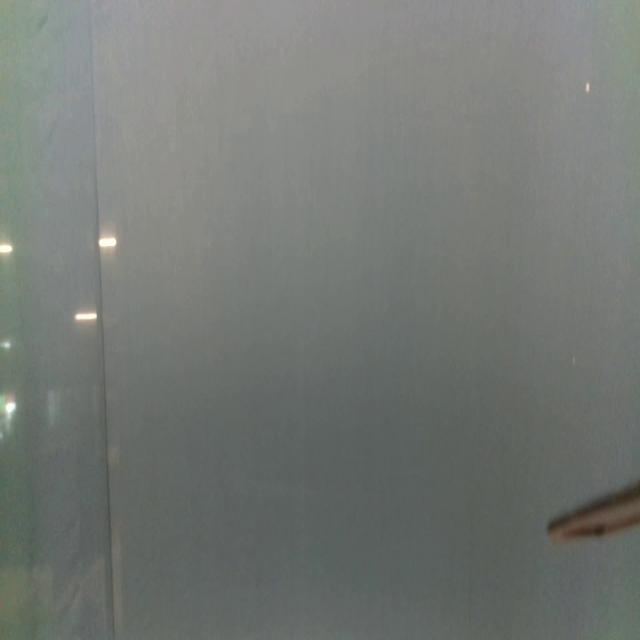crease: (85, 1, 117, 640)
hole: (584, 80, 592, 96)
